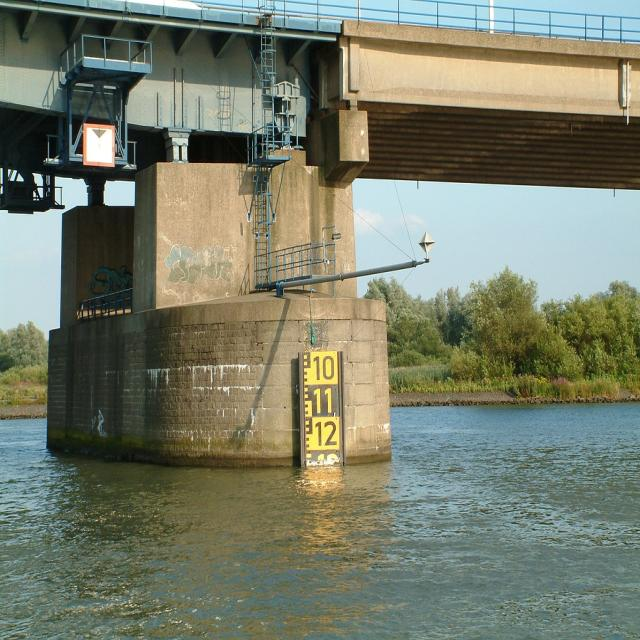ruler: (294, 343, 350, 472)
value: (311, 352, 339, 384), (313, 384, 337, 418), (315, 416, 338, 449)
